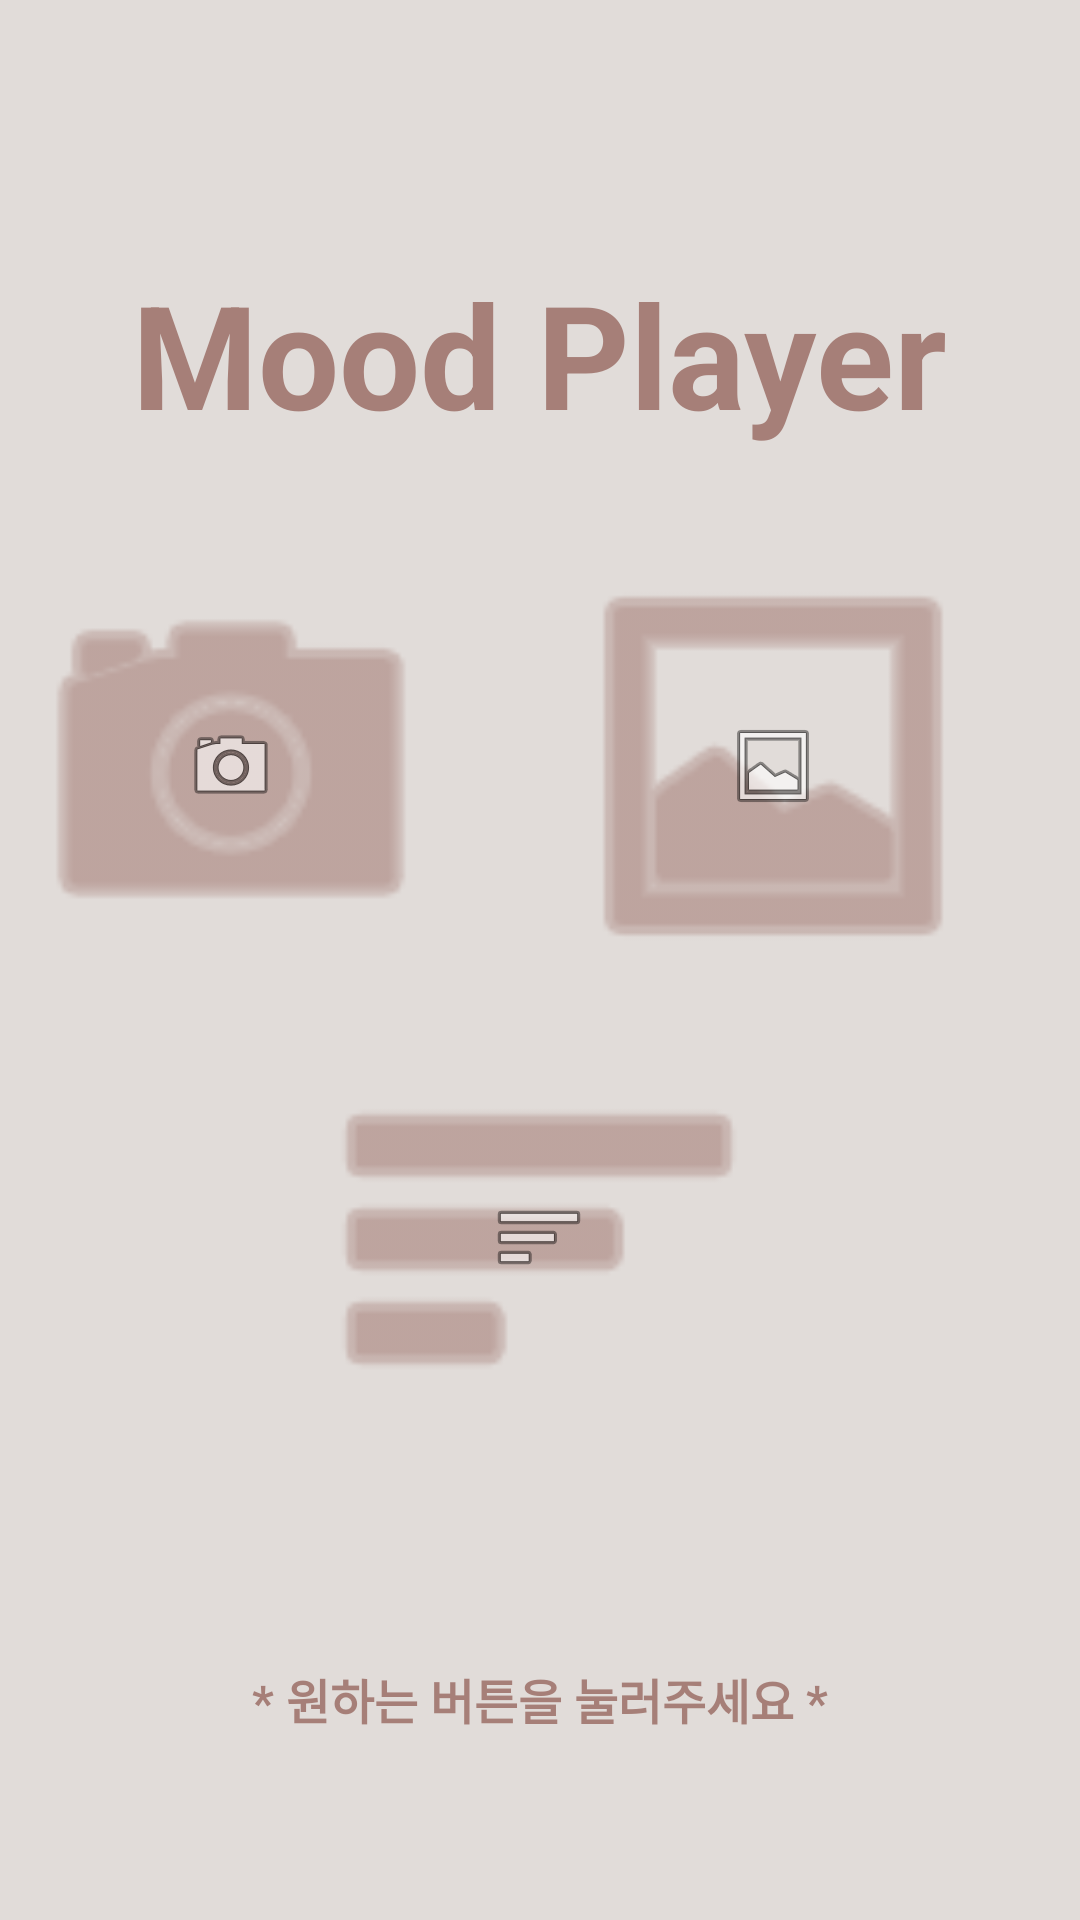

Where icons sit on this 1080x1920 app screen, as (x1, y1, x2, y2):
camera: (59, 623, 403, 895)
gallery: (605, 598, 941, 934)
